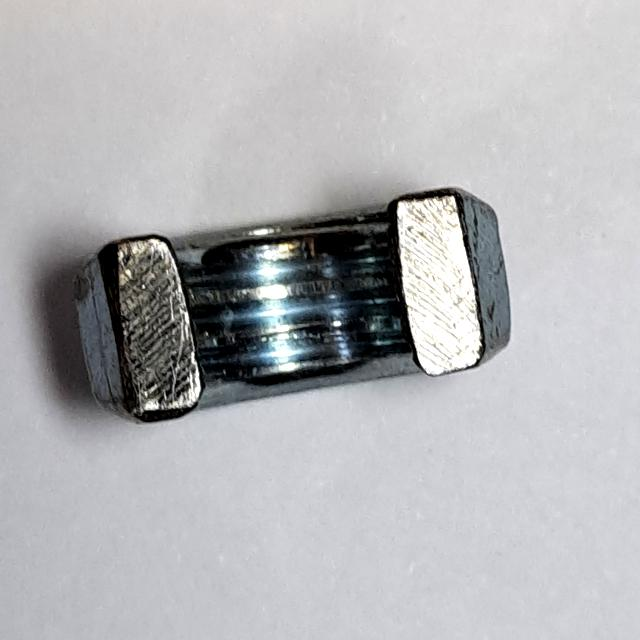Side-Fracture: (62, 167, 530, 440)
